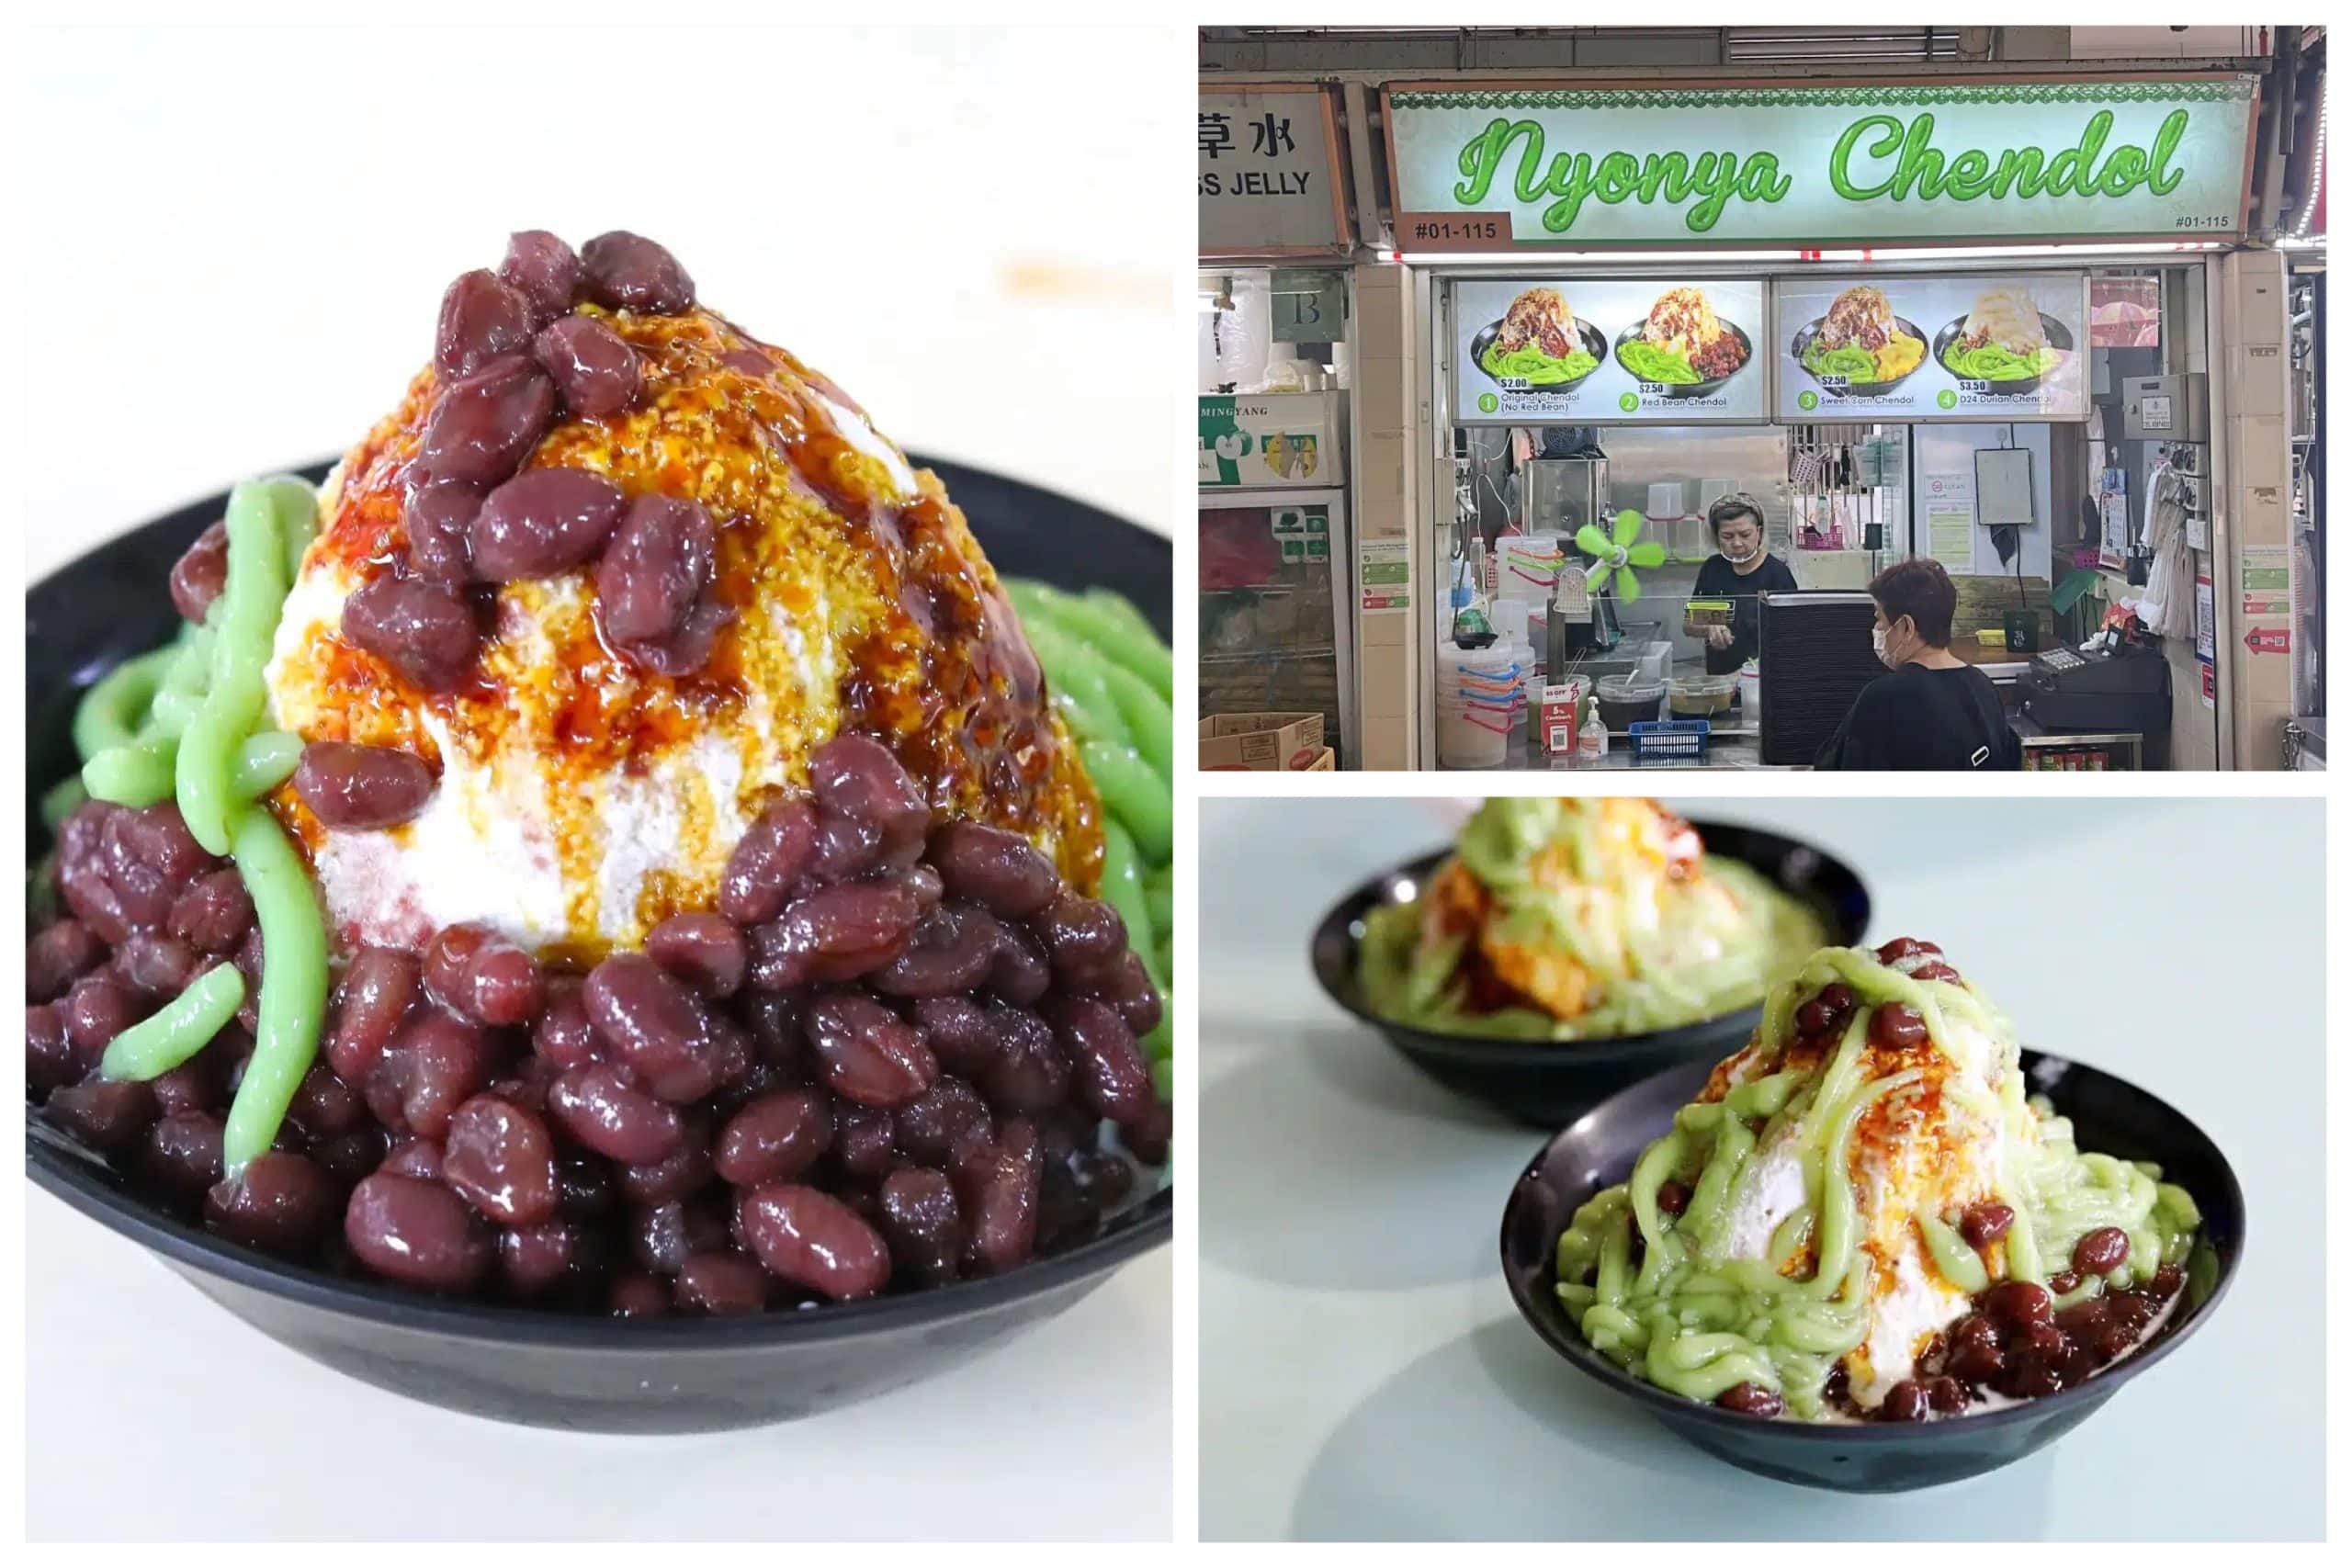Chendol: (86, 171, 1123, 1375), (1549, 955, 2250, 1423), (1353, 803, 1832, 1013)
